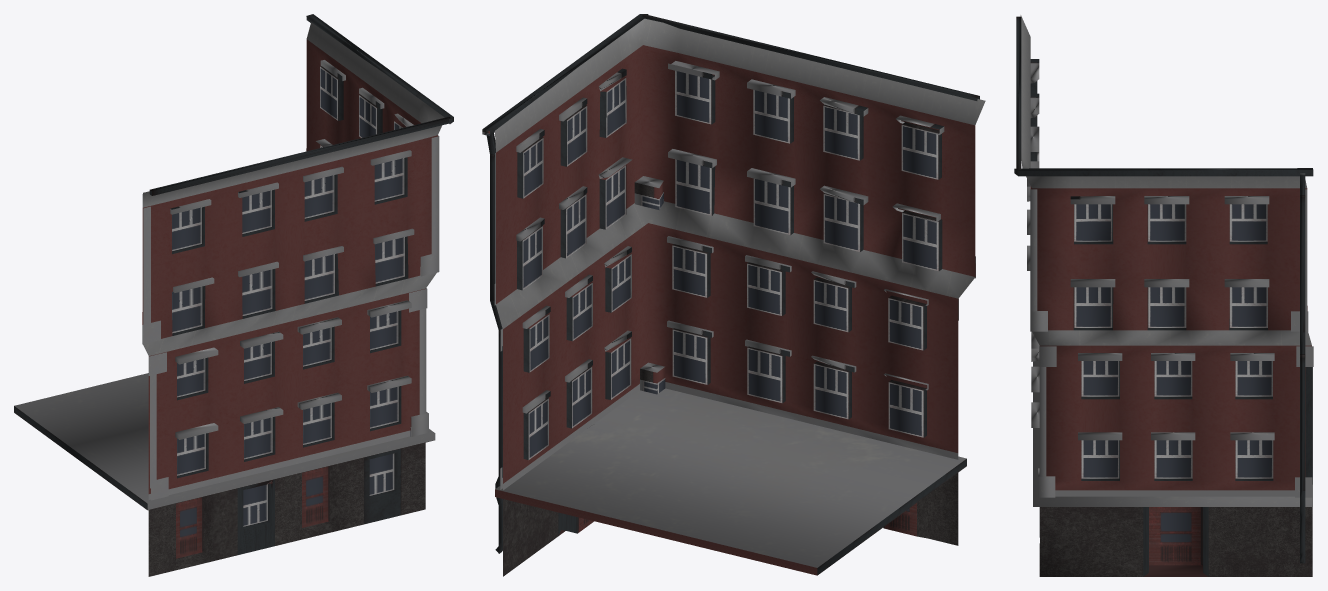
The model's file is basic apartment complex 1.fbx.
The picture shows the model from 3 angles, left to right: view 1: azimuth 30°, elevation 25°; view 2: azimuth 150°, elevation 25°; view 3: azimuth 270°, elevation 25°; orthographic projection. The views are drawn at different scales.
Visible parts, largest first — view 1: Cube.016; view 2: Cube.016; view 3: Cube.016.
Boxes of the visible parts, x1=… form: Cube.016: x1=14, y1=14, x2=453, y2=576; Cube.016: x1=482, y1=14, x2=985, y2=576; Cube.016: x1=1014, y1=15, x2=1313, y2=576.
Size of the model in its own units: 9532 by 11584 by 7584.
